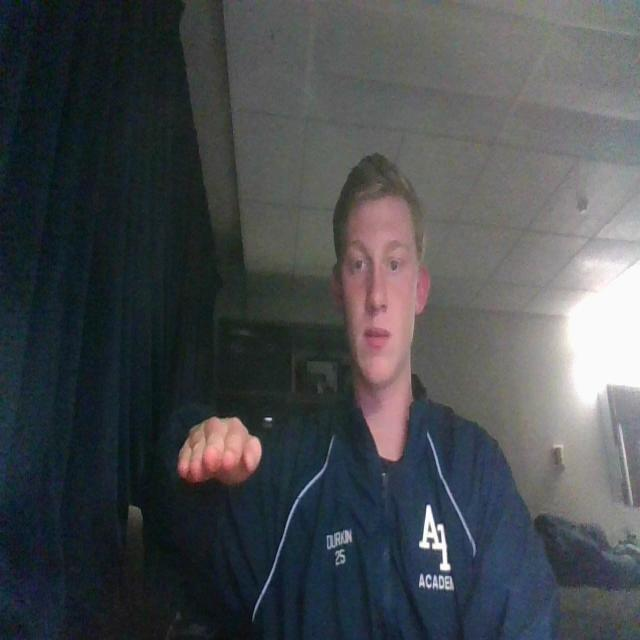paper: (175, 414, 264, 497)
